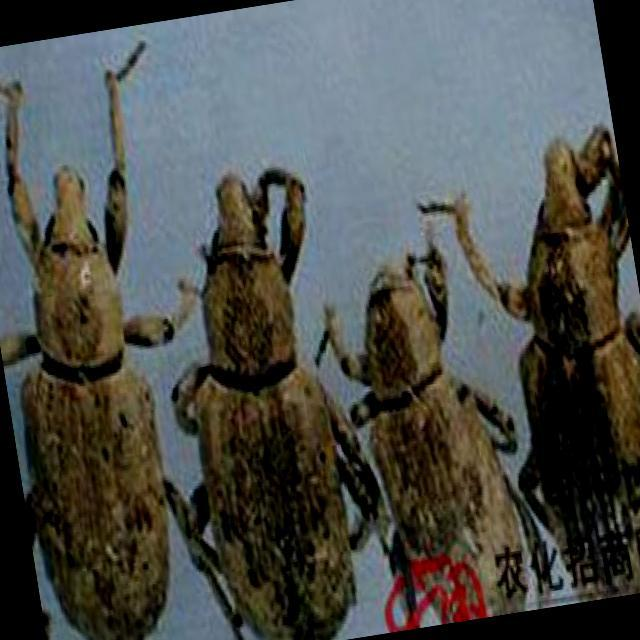ricebug: (0, 82, 195, 639), (172, 170, 355, 639), (480, 127, 639, 589), (339, 247, 521, 629)
